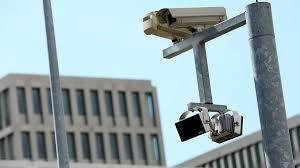tutu: (156, 6, 233, 29)
